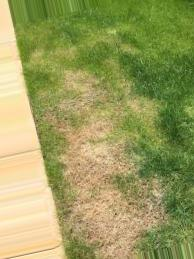patch: (53, 73, 123, 130), (75, 191, 139, 231), (62, 135, 117, 181), (90, 234, 129, 259), (139, 98, 164, 126), (146, 193, 165, 219)
